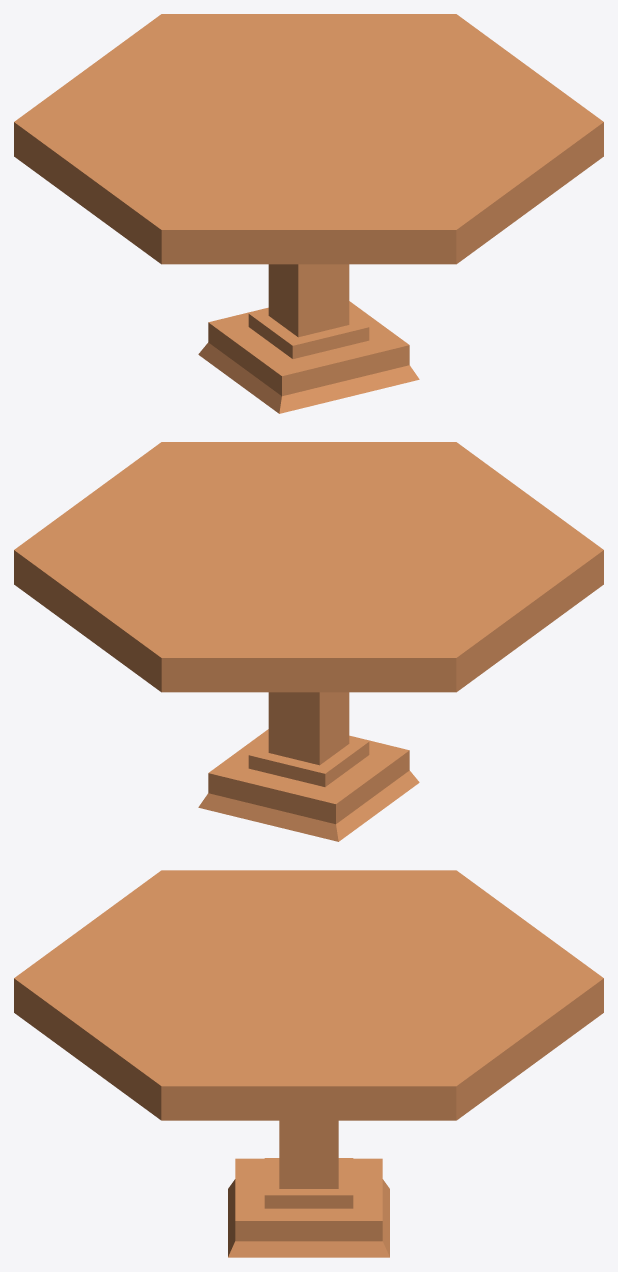
File: Furniture_Round_Table.glb
3 views of the same model, one above another, from view 1: azimuth 30°, elevation 25°; view 2: azimuth 150°, elevation 25°; view 3: azimuth 270°, elevation 25° (orthographic).
Parts seen in each view (by area): view 1: tableRound; view 2: tableRound; view 3: tableRound.
Part boxes in pixels (<box>): tableRound: <box>14,14,603,413</box>; tableRound: <box>14,442,603,841</box>; tableRound: <box>14,870,603,1257</box>.
Size of the model in its own units: 0.6928 by 0.3667 by 0.8.
